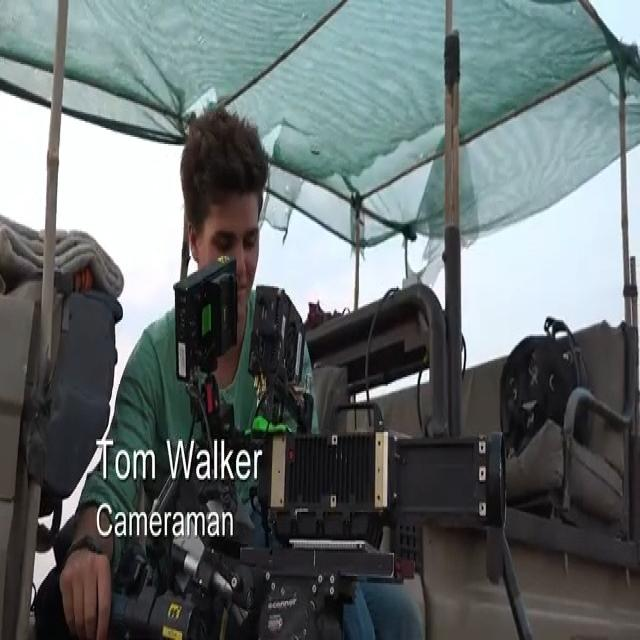device: (166, 279, 509, 640)
human: (172, 79, 284, 266)
